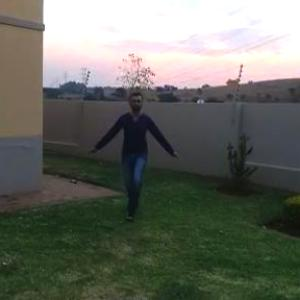land: (84, 85, 183, 238)
